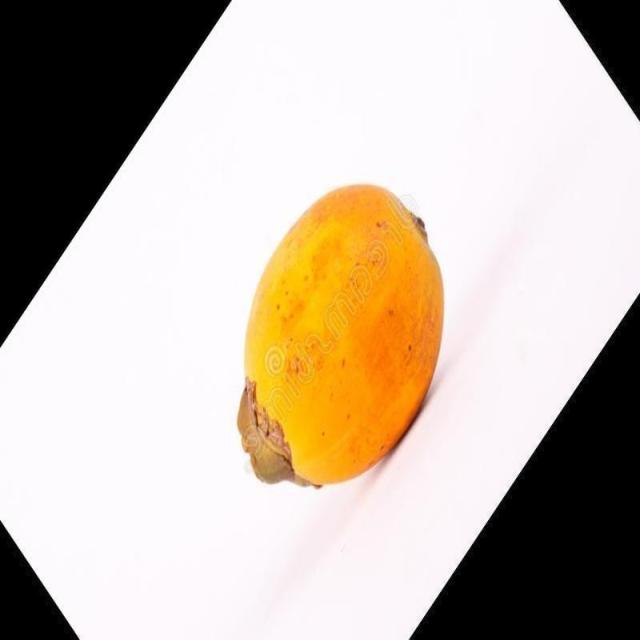good: (235, 185, 446, 486)
